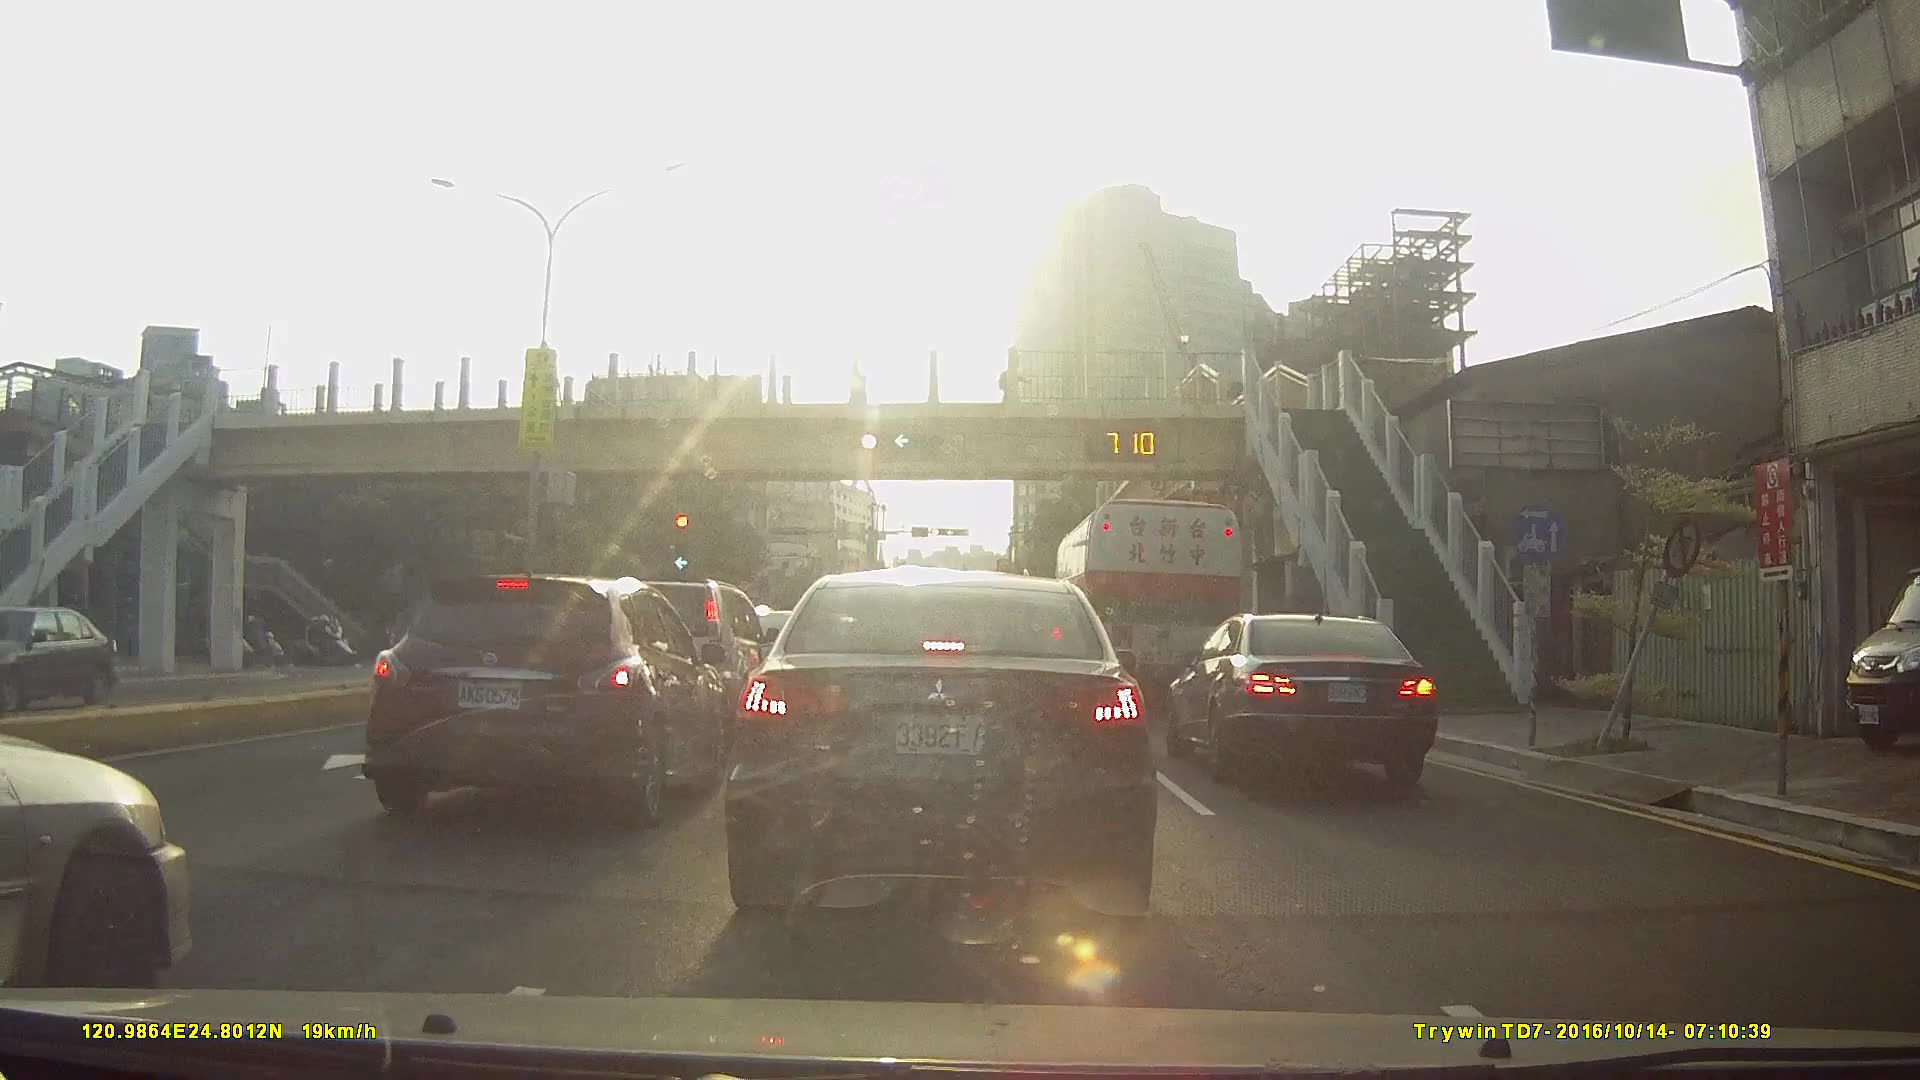pedestrian: (999, 354, 1023, 405)
rider: (301, 611, 364, 665), (231, 613, 288, 667)
vehicle: (718, 564, 1159, 923), (363, 572, 732, 827), (0, 729, 193, 1020), (1161, 610, 1441, 786), (1054, 497, 1244, 710), (0, 605, 100, 714), (0, 607, 52, 688)
